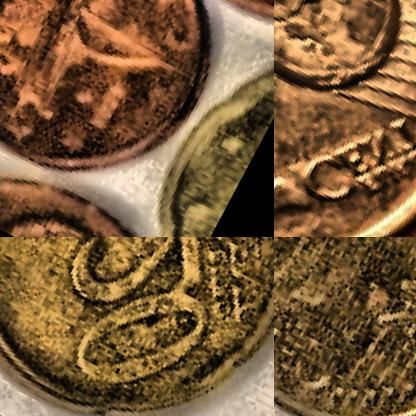coin: (0, 0, 254, 221), (0, 237, 273, 415), (274, 0, 415, 236), (274, 237, 415, 415)
